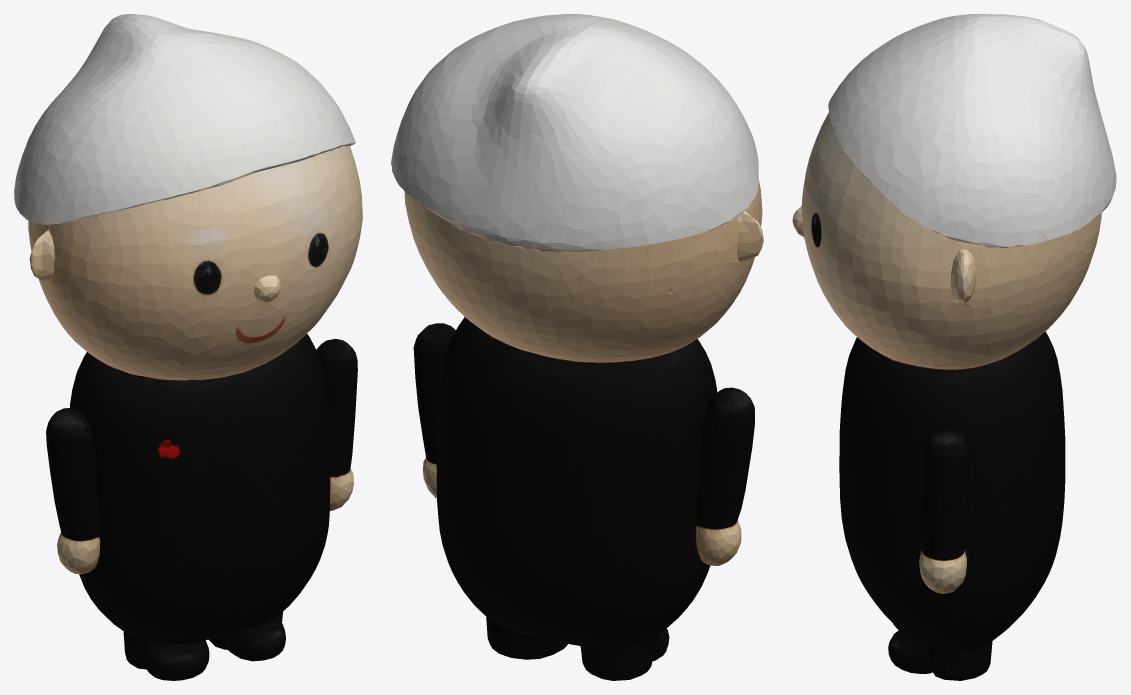
Rendered from melenchon.glb.
The picture shows the model from 3 angles, left to right: view 1: azimuth 30°, elevation 25°; view 2: azimuth 150°, elevation 25°; view 3: azimuth 270°, elevation 25°; orthographic projection. The views are drawn at different scales.
Parts seen in each view (by area): view 1: geometry_0; view 2: geometry_0; view 3: geometry_0.
Boxes of the visible parts, x1,y1,x2,y2 form: geometry_0: (14,14,362,680); geometry_0: (391,14,763,680); geometry_0: (792,14,1116,680).
Size of the model in its own units: 0.5664 by 0.9997 by 0.4757.
1 material, 1 textured.
